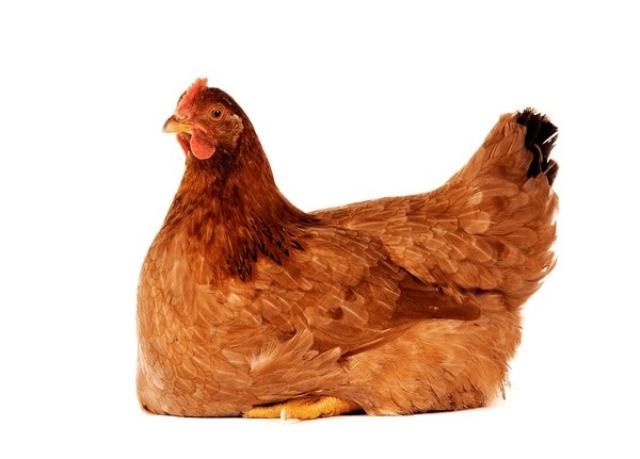Chicken: (136, 77, 559, 422)
